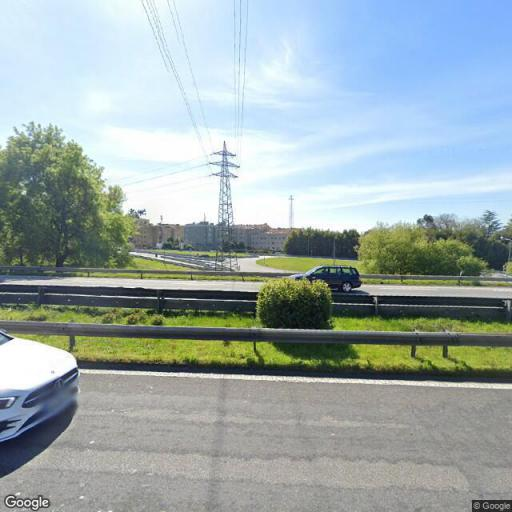ss_1: (287, 194, 296, 230)
ss_3: (210, 142, 242, 272)
